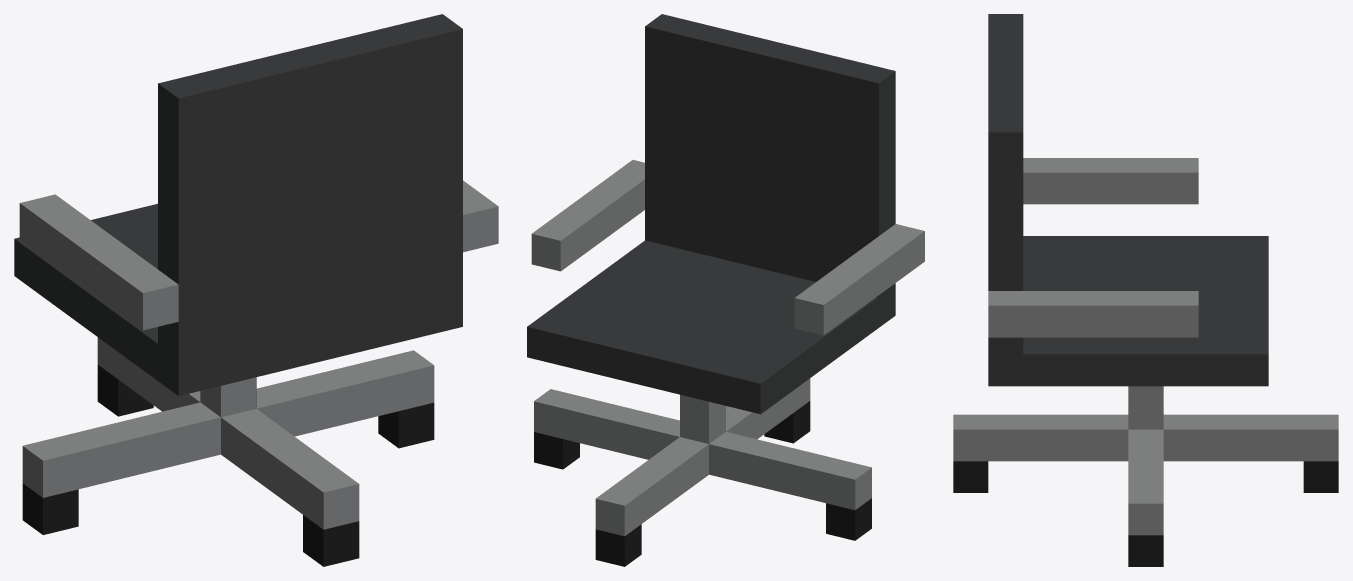
File: silla_escritorio.glb
The picture shows the model from 3 angles, left to right: view 1: azimuth 30°, elevation 25°; view 2: azimuth 150°, elevation 25°; view 3: azimuth 270°, elevation 25°; orthographic projection. The views are drawn at different scales.
Parts seen in each view (by area): view 1: silla, Base, brazos (×2), Lantas (×4); view 2: silla, Base, brazos (×2), Lantas (×4); view 3: silla, Base, brazos (×2), Lantas (×3).
Boxes of the visible parts, x1,y1,x2,y2 form: silla: [14, 14, 462, 396]; Base: [22, 337, 434, 529]; brazos (×2): [19, 180, 498, 330]; Lantas (×4): [22, 365, 434, 566]; silla: [527, 14, 895, 414]; Base: [534, 378, 871, 536]; brazos (×2): [531, 160, 924, 335]; Lantas (×4): [534, 401, 871, 566]; silla: [988, 14, 1268, 386]; Base: [953, 386, 1338, 535]; brazos (×2): [988, 158, 1198, 337]; Lantas (×3): [953, 461, 1338, 566].
Size of the model in its own units: 0.6875 by 0.8125 by 0.6875.
1 material, 1 textured.
